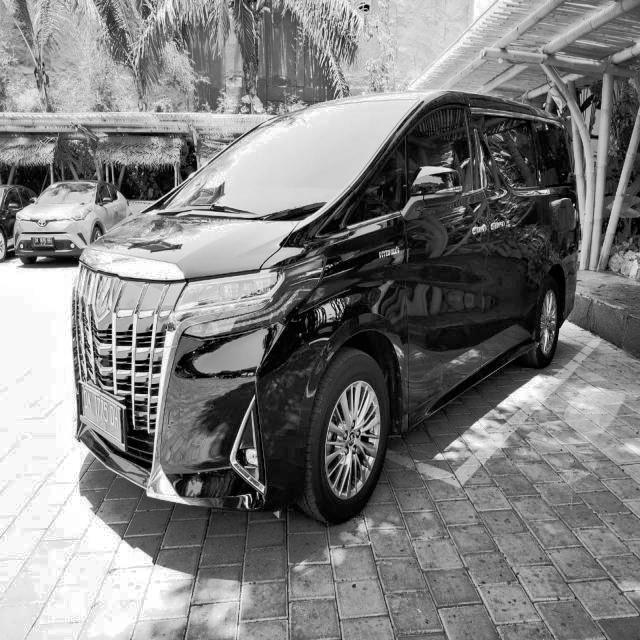Car: (72, 65, 590, 518), (64, 104, 570, 532), (12, 165, 126, 265)
